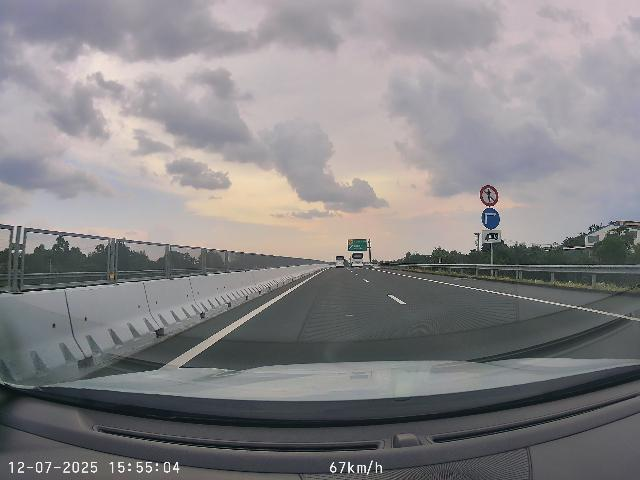136-cam-di-thang: (479, 185, 499, 207)
301d-cac-xe-chi-duoc-re-phai-2: (481, 208, 500, 230)
